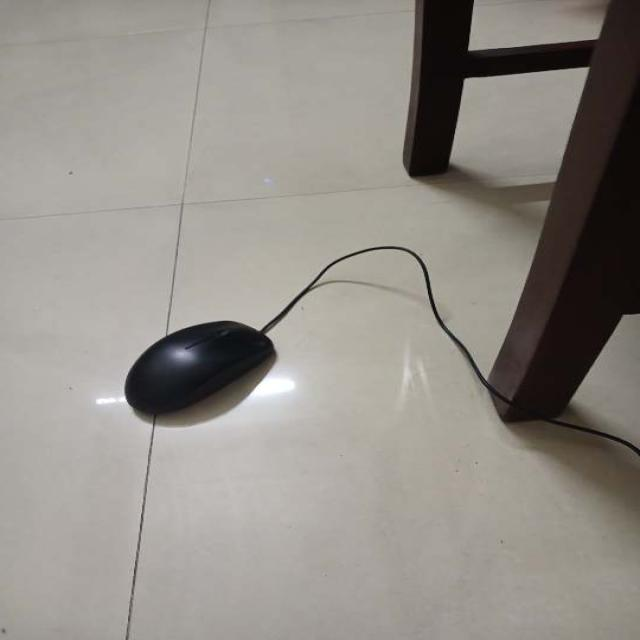mouse: (116, 310, 282, 424)
